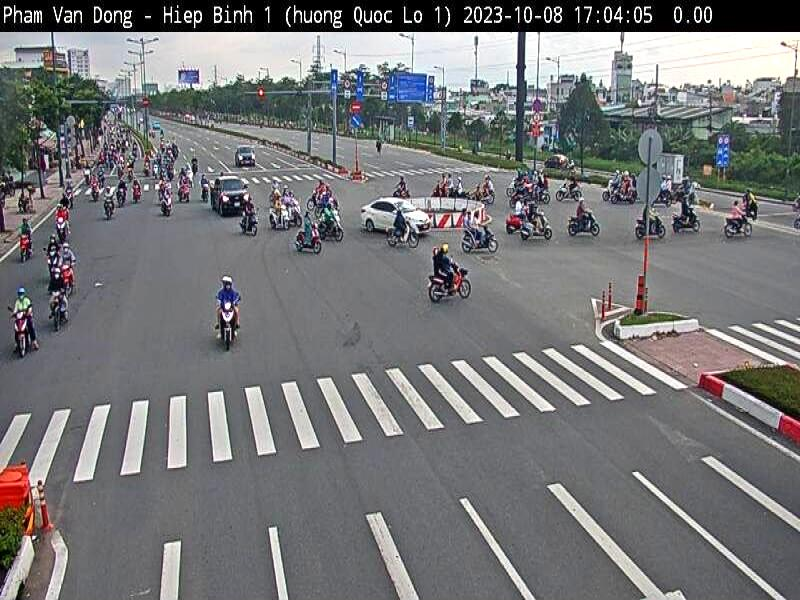car: (358, 190, 421, 242), (213, 177, 254, 215), (236, 147, 258, 168)
motorcycle: (428, 268, 472, 304), (14, 315, 40, 360), (214, 303, 238, 346), (722, 214, 752, 240), (238, 211, 259, 236)
